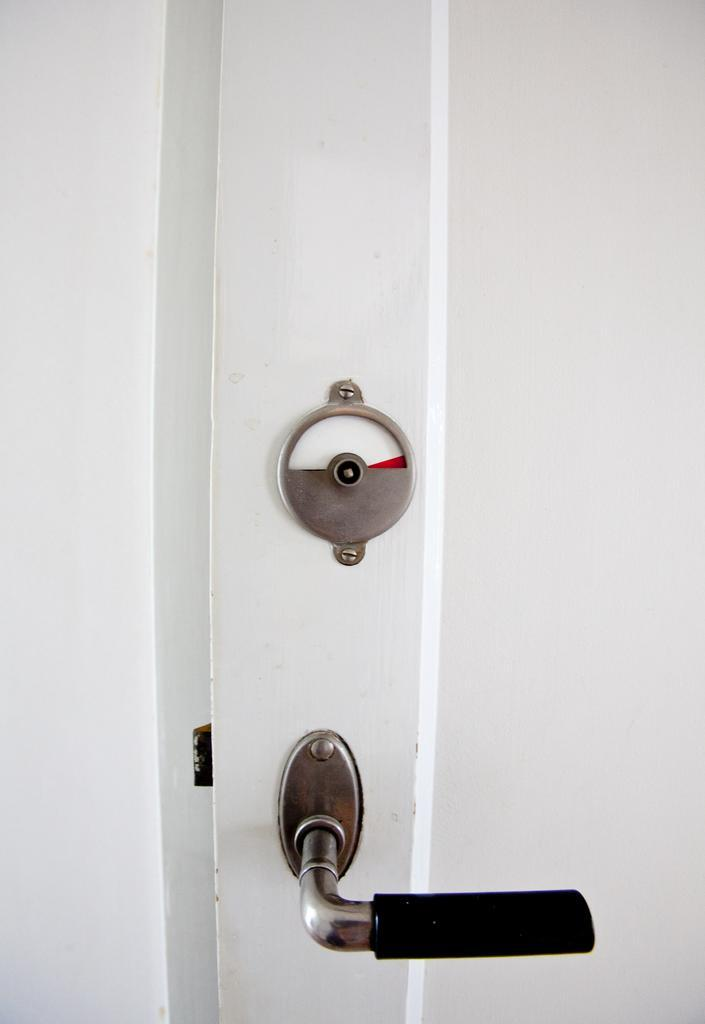door: (223, 24, 705, 983)
handle: (296, 855, 608, 987)
